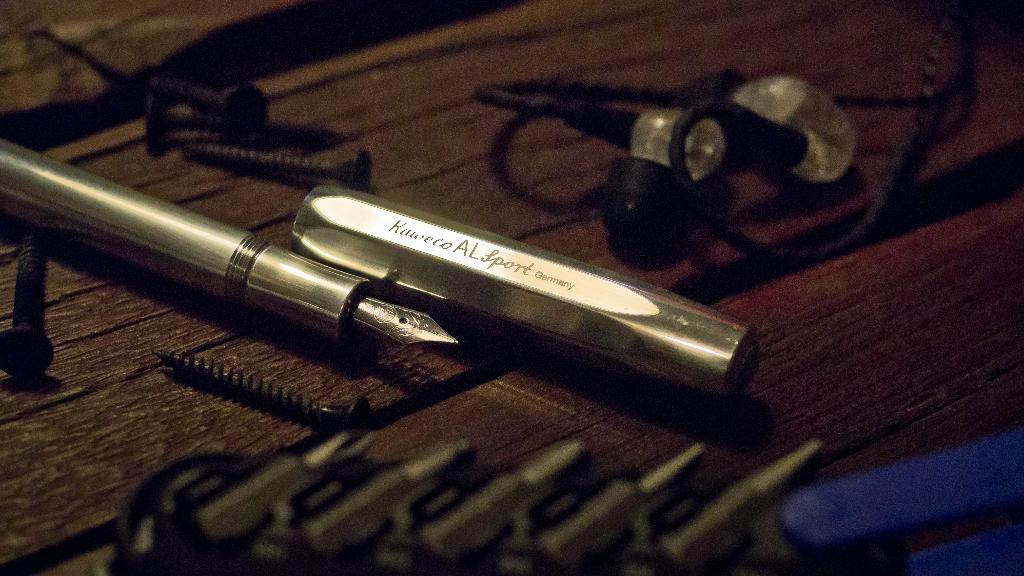Pen: (0, 132, 466, 369)
